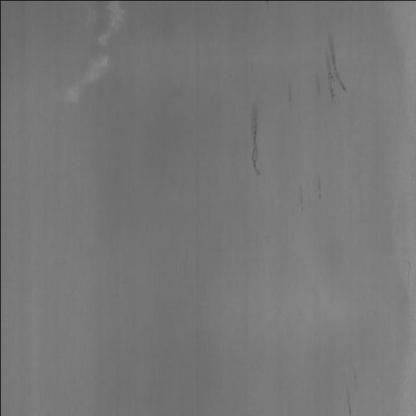water_spot: (237, 95, 269, 198), (318, 17, 348, 123)
